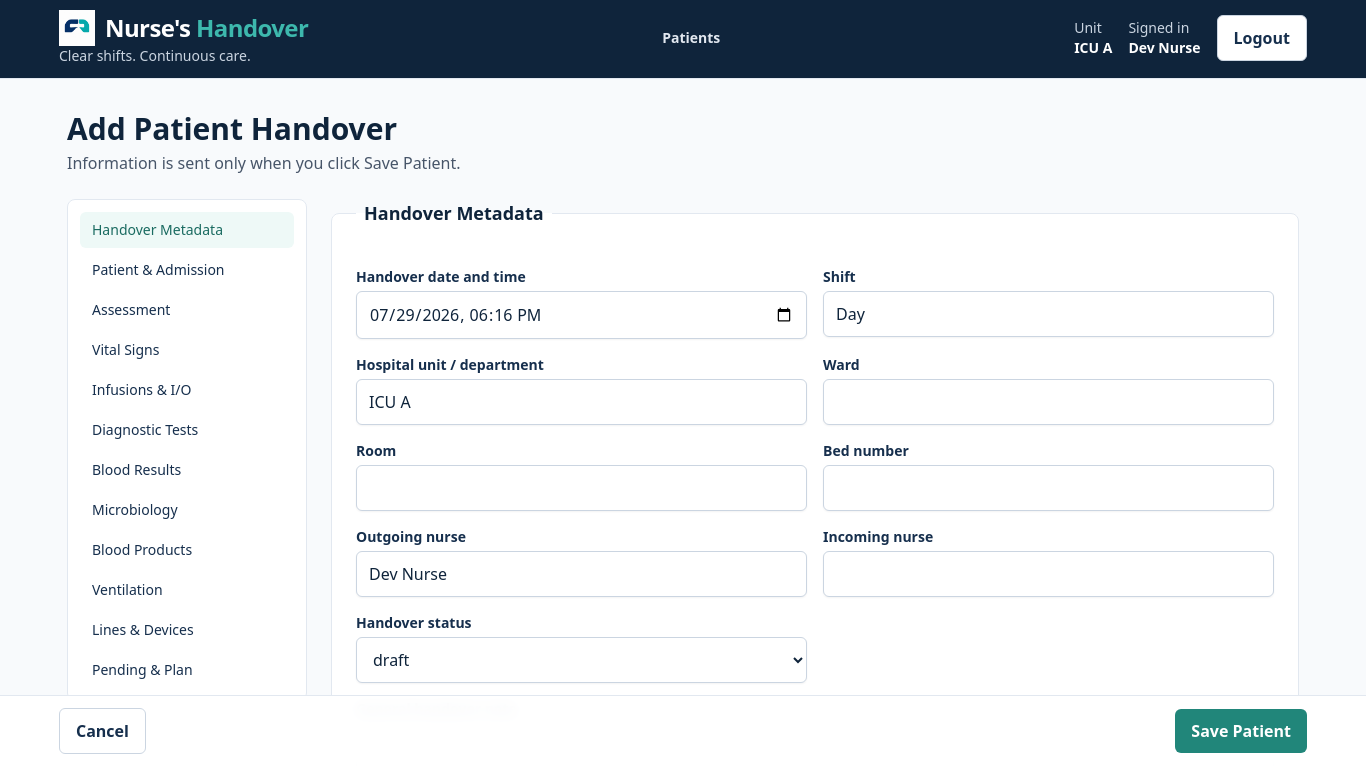
Test case: PatientFormPage › validates required fields
Expected: the heading "Add Patient Handover" is shown, [67,108,397,149]
Click the button "Save Patient": (1241, 731) [1175,709,1307,753]
(page scrolled)
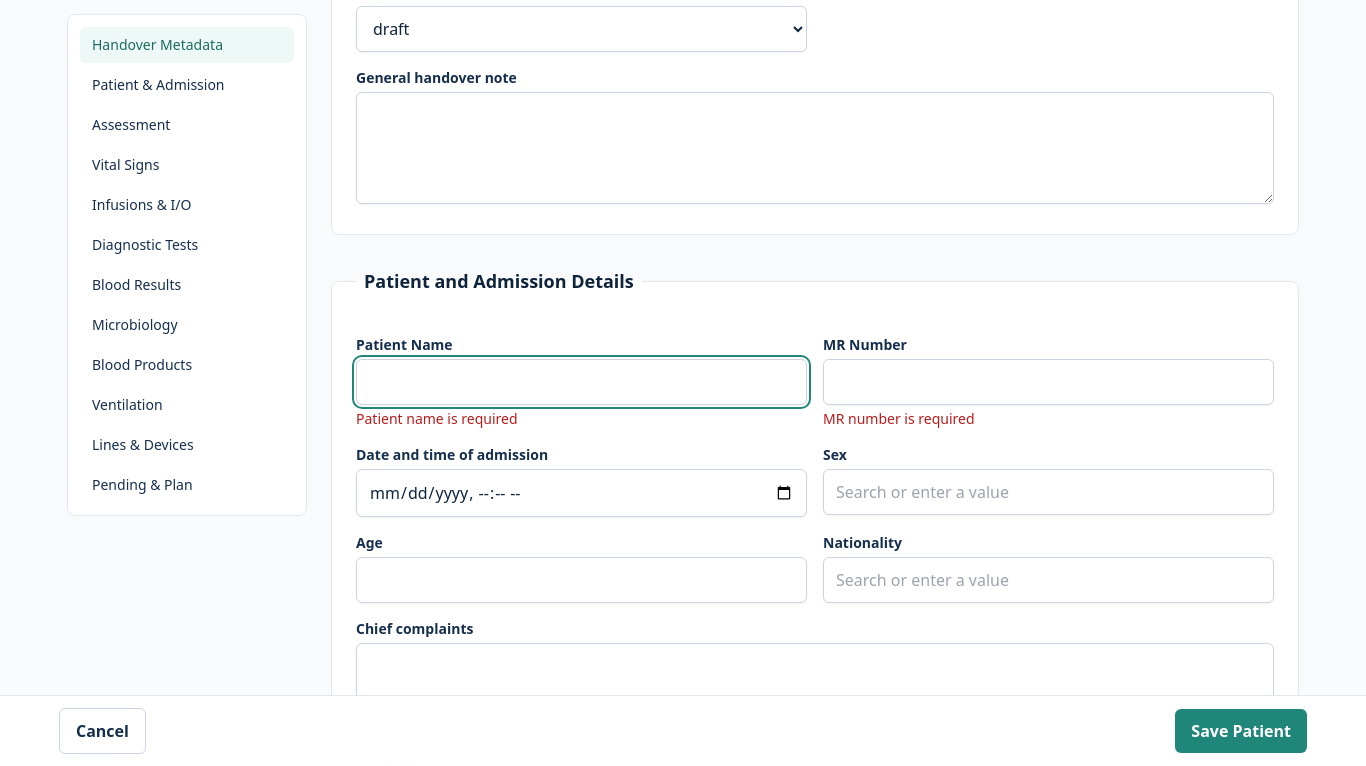
Now the text "Patient name is required" is shown, box [356,409,518,428]
Now the text "MR number is required" is shown, box [823,409,975,428]
